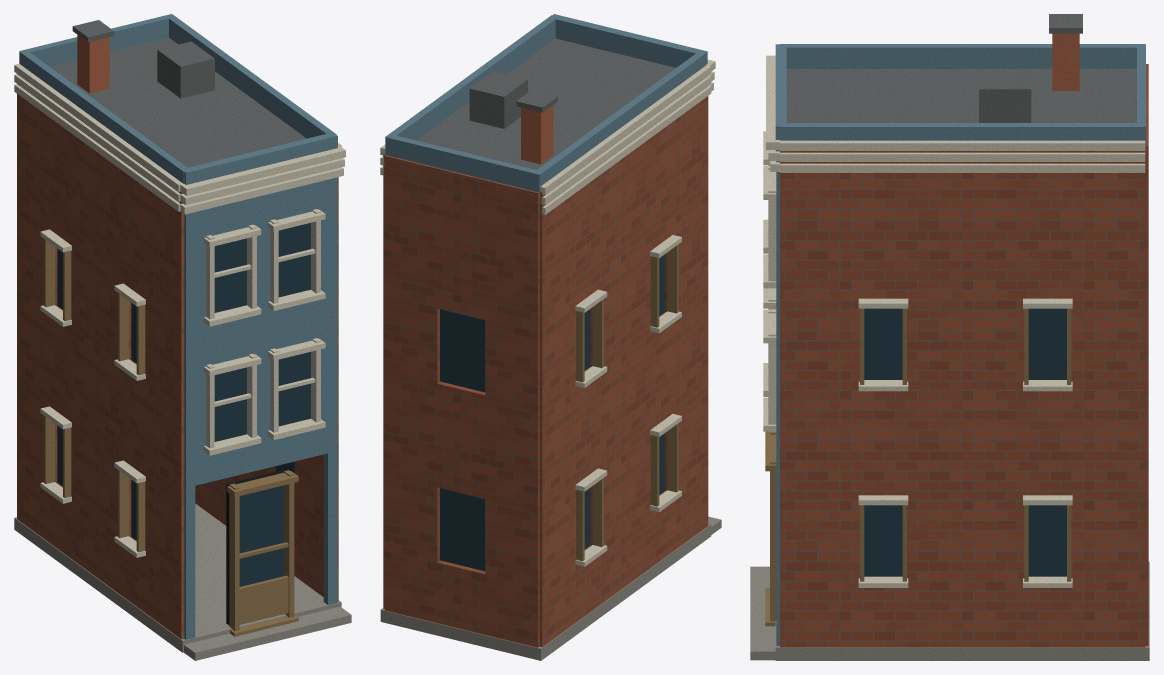
Rendered from VICT11_lod2.glb.
3 views of the same model, side by side, from view 1: azimuth 30°, elevation 25°; view 2: azimuth 150°, elevation 25°; view 3: azimuth 270°, elevation 25° (orthographic). The views are drawn at different scales.
Parts seen in each view (by area): view 1: VICT11_LOD2; view 2: VICT11_LOD2; view 3: VICT11_LOD2.
Boxes of the visible parts, x1,y1,x2,y2 form: VICT11_LOD2: (14,14,351,660); VICT11_LOD2: (380,14,721,660); VICT11_LOD2: (750,14,1149,660).
Bounding box in the file's own units: 3.71 × 10.45 × 6.57.
Materials: 9 (7 with a texture image).
